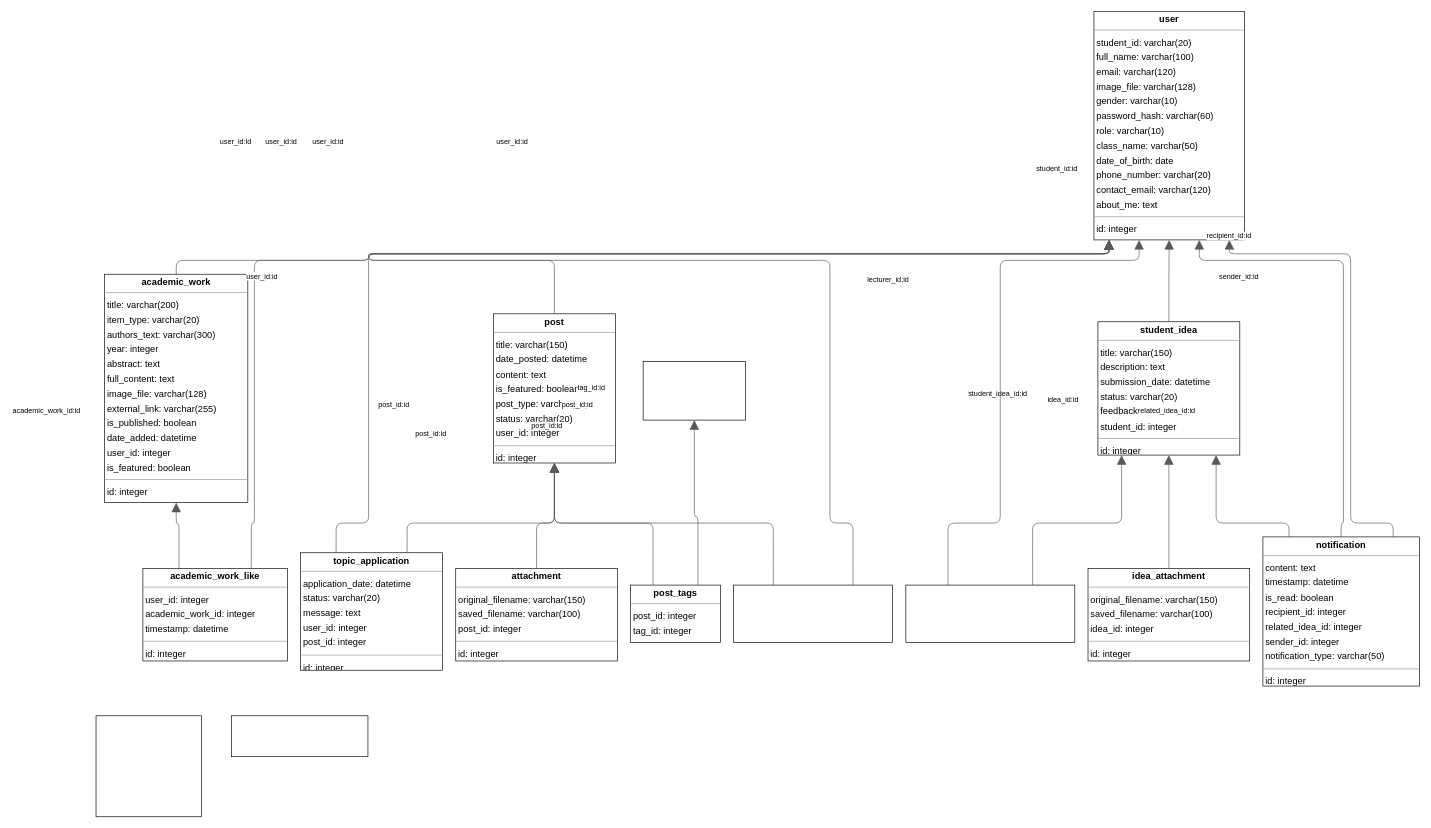
This 1431x828 diagram has some shape labels left out. The shapes that lost their labels are listed below. From the top down, each one's box as (x1, y1, x2, y2) in pixels, then its label:
(643, 361, 745, 420): tag name: varchar(50) id: integer
(733, 584, 893, 643): student_topic_interest user_id: integer post_id: integer
(905, 584, 1075, 643): idea_recipient_lecturers student_idea_id: integer lecturer_id: integer
(231, 715, 368, 757): alembic_version version_num: varchar(32)
(95, 715, 202, 817): sqlite_master type: text name: text tbl_name: text rootpage: int sql: text
